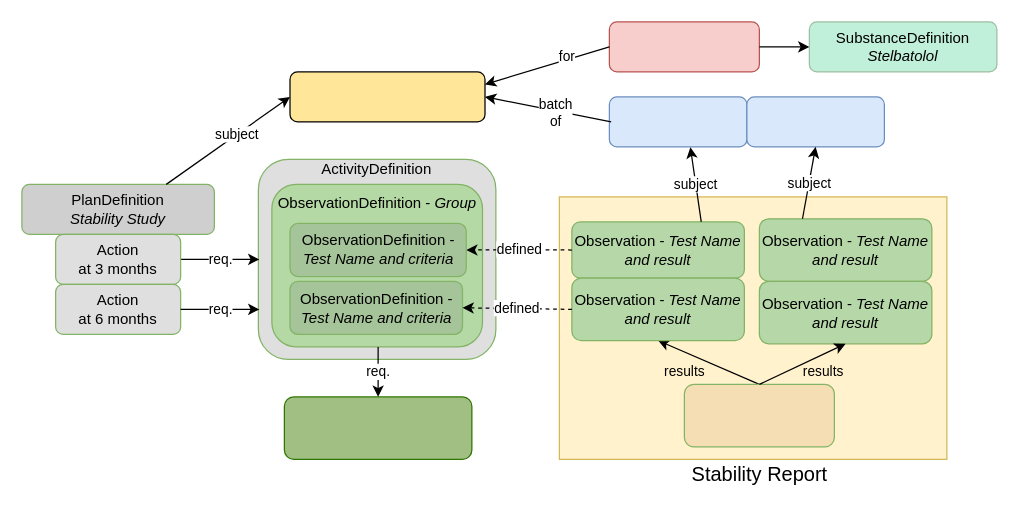
Image size: 1019x519. Some labels were removed from this diagram. The shapes that lost their labels are listed below. From the top down, each one's centre as x and y in pixels, then its label:
point 683,46: Ingredient
point 387,96: MedicinalProductDefintion Stelbat Tablets, 20mg
point 677,121: Medication Batch 1
point 815,121: Medication Batch 2
point 377,427: SpecimenDefinition - Storage conditions and duration
point 758,415: DiagnosticReport List of values and conclusion
